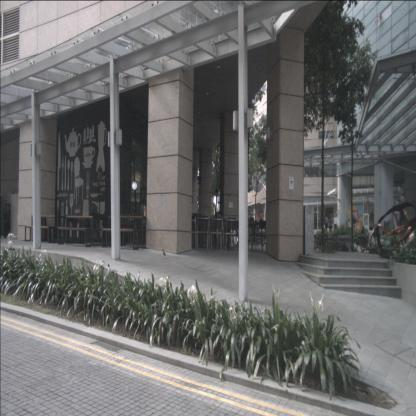human-pedestrian-adult: (366, 226, 376, 249), (360, 226, 366, 248), (333, 214, 338, 236), (328, 214, 333, 236), (324, 214, 329, 235), (353, 214, 357, 237), (260, 210, 263, 230)
